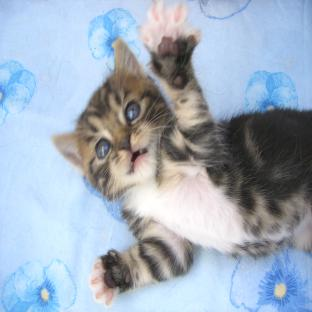Animal: (53, 0, 312, 306)
